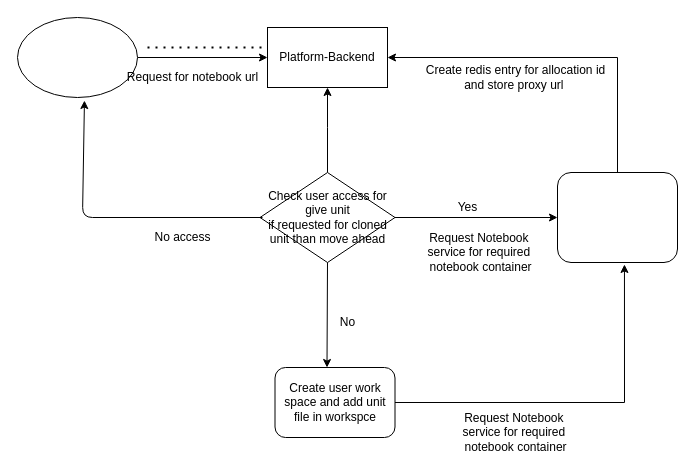
Image size: 695x475. Some labels were removed from this diagram. The centre of each missing label's shape, as x and y in pixels:
NoteBook service: point (617, 217)
Quantra Frontend: point (77, 57)
